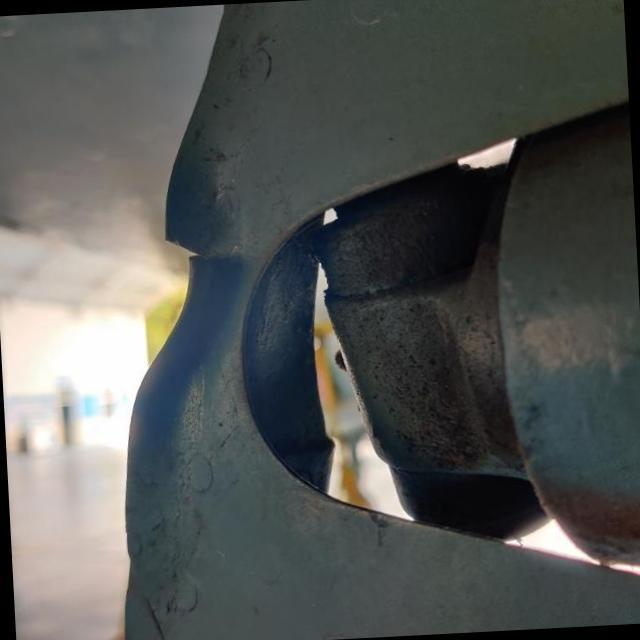Rupture: (140, 222, 233, 289)
